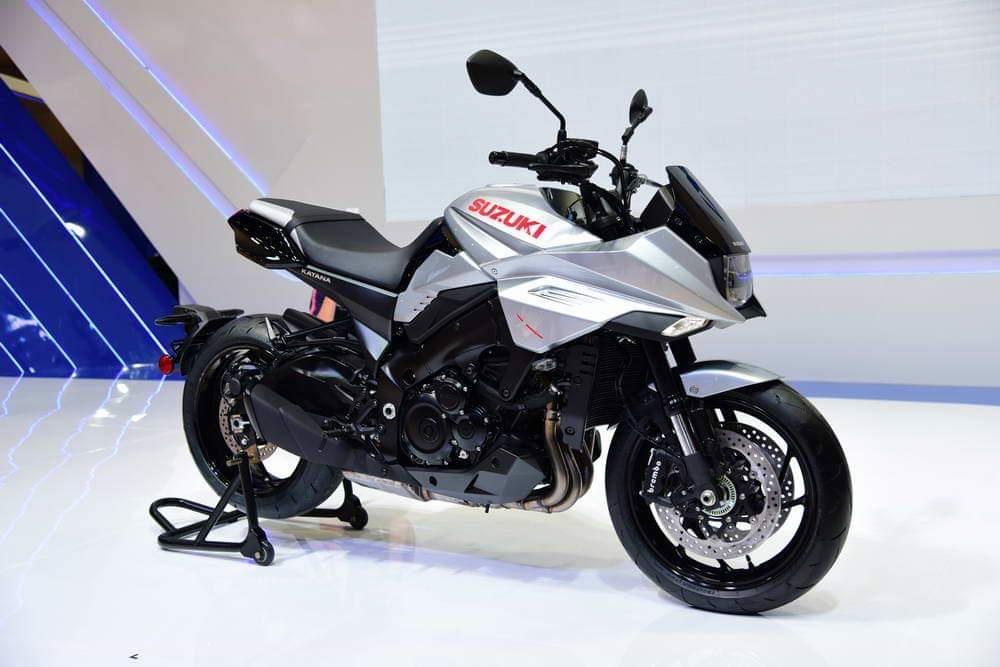motorcycle: (182, 143, 852, 615)
